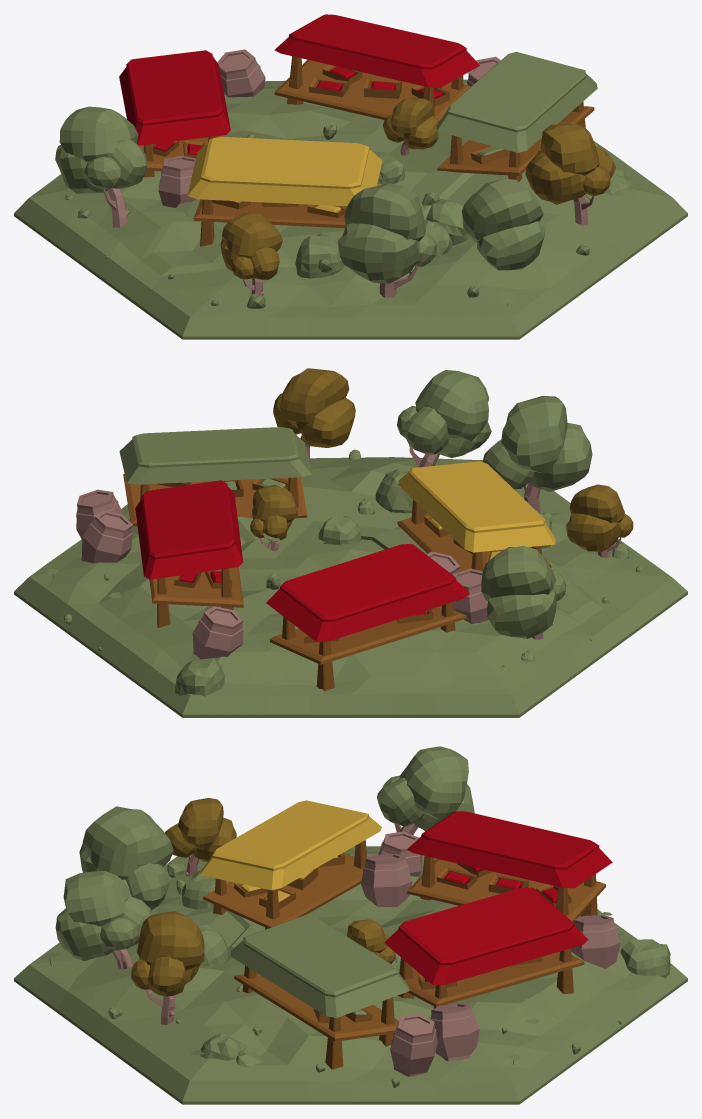
File: market.glb
The picture shows the model from 3 angles, top to bottom: view 1: azimuth 30°, elevation 25°; view 2: azimuth 150°, elevation 25°; view 3: azimuth 270°, elevation 25°; orthographic projection.
Parts seen in each view (by area): view 1: land; view 2: land; view 3: land.
Part boxes in pixels (x1,y1,x2,y2): land: (14, 14, 687, 339); land: (14, 368, 687, 717); land: (14, 746, 687, 1104).
Size of the model in its own units: 1.73 by 0.4538 by 2.
Materials: 1 (1 with a texture image).
